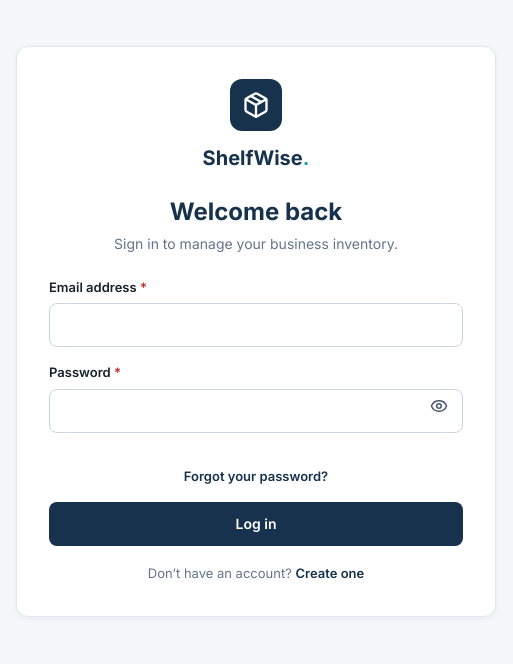
Test: LoginPage › shows the exact unverified email message
This screenshot has width=513, height=664.
Type "owner@example.com" into the field labelled "Email address *" at [256, 325], box x1=49 y1=303 x2=463 y2=347
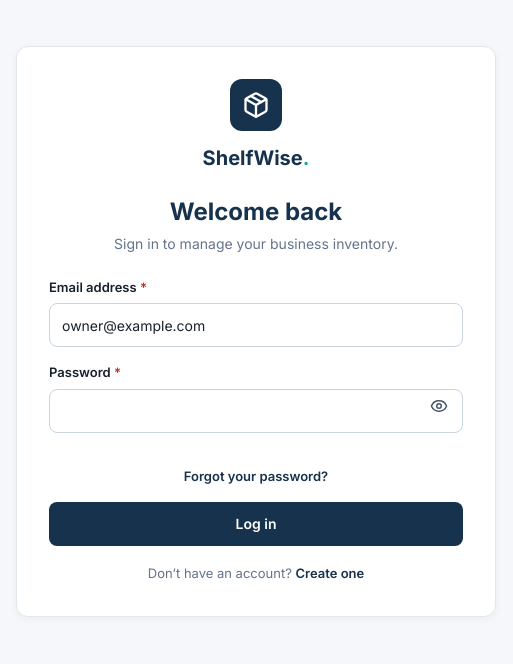
Type "correct horse" into the password field labelled "Password *" at [256, 410], box x1=49 y1=388 x2=463 y2=432
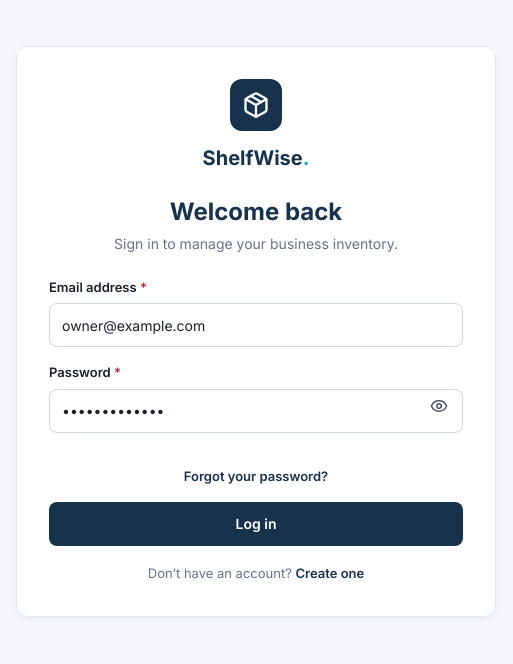
Click the button "Log in" at [256, 524], box x1=49 y1=502 x2=463 y2=546
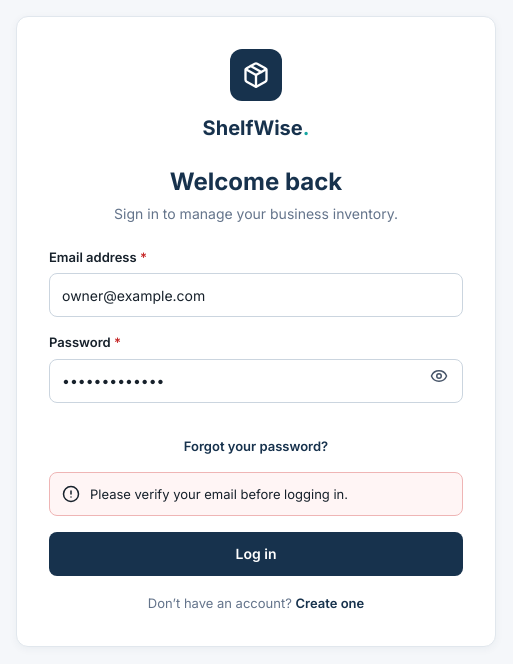
Check: the message reads "Please verify your email before logging in.", box x1=90 y1=486 x2=348 y2=502
